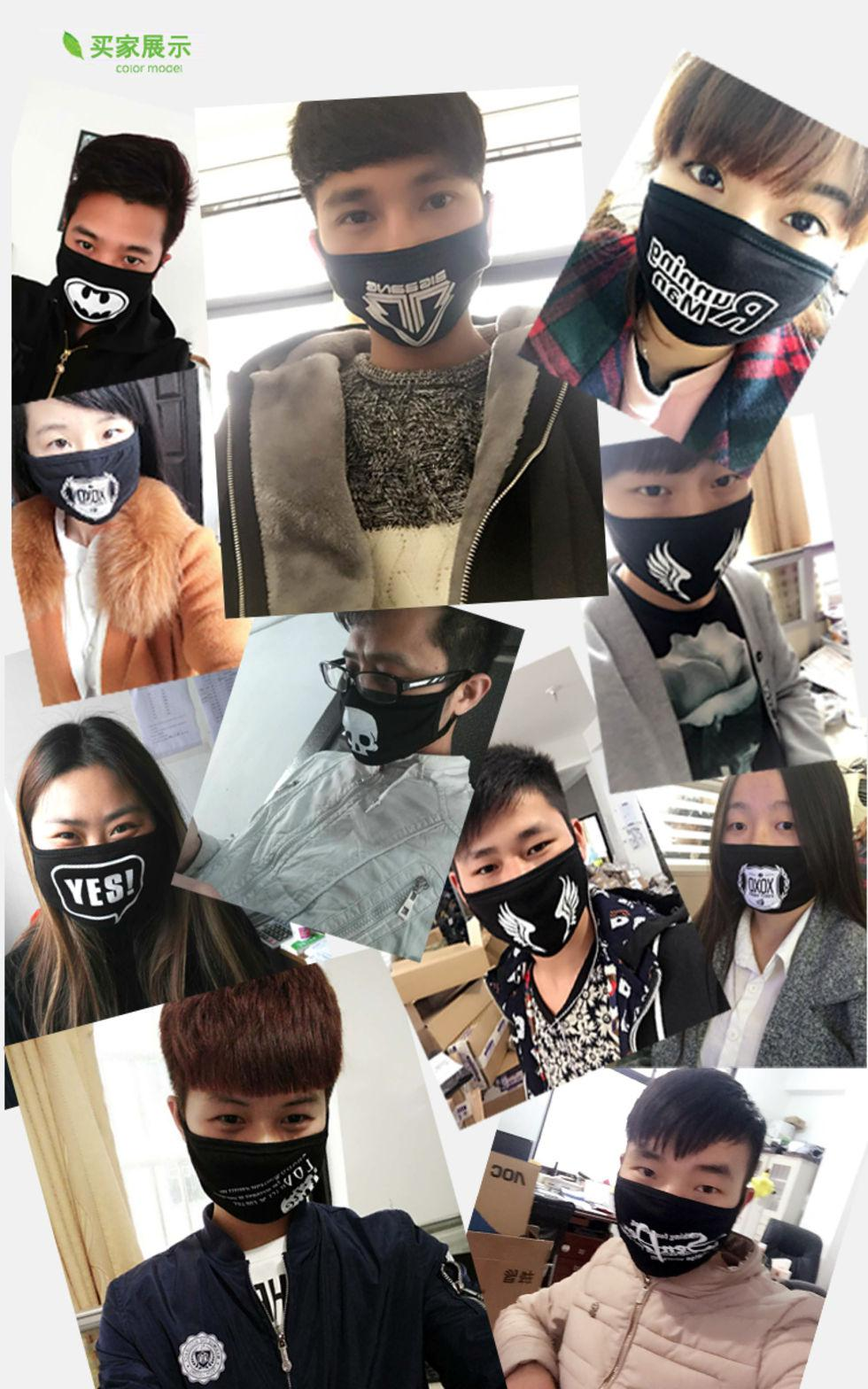OK: (628, 115, 856, 343), (312, 159, 498, 345), (610, 435, 771, 596), (184, 1082, 324, 1222), (454, 819, 593, 957), (612, 1140, 746, 1274), (327, 632, 457, 764), (30, 801, 156, 927), (709, 788, 832, 911), (35, 398, 148, 526), (52, 211, 164, 322)
